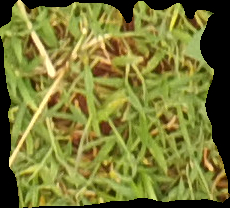grass: (1, 1, 229, 207)
